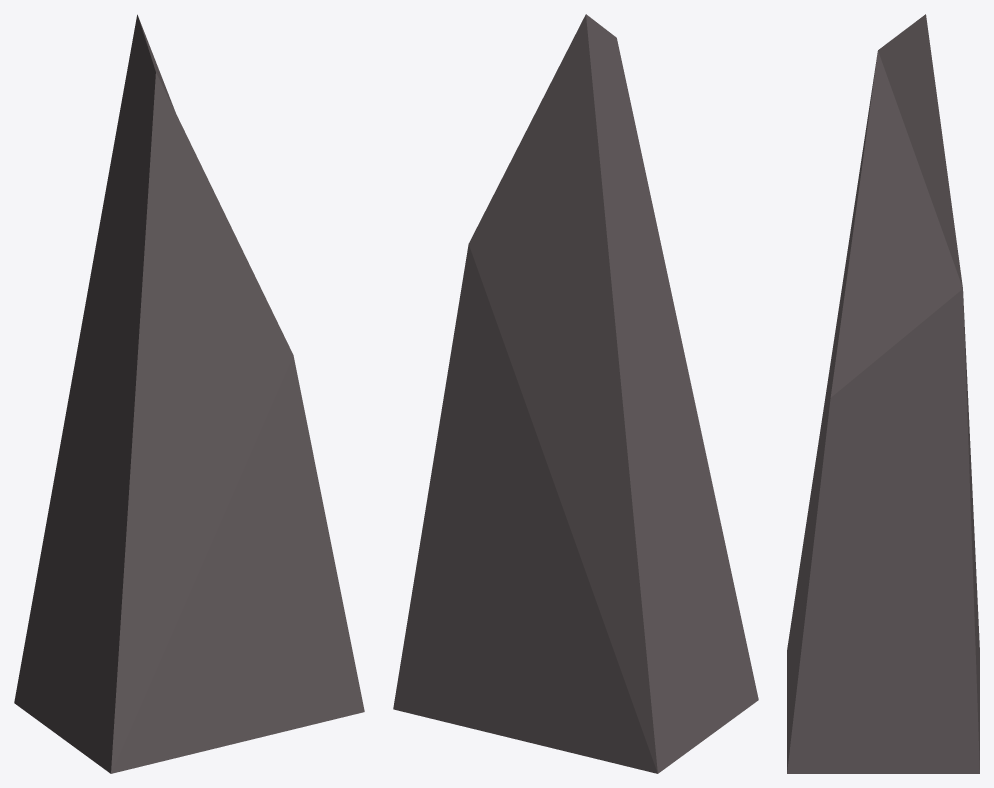
File: Rock_Sharp_s_04.fbx
3 views of the same model, side by side, from view 1: azimuth 30°, elevation 25°; view 2: azimuth 150°, elevation 25°; view 3: azimuth 270°, elevation 25° (orthographic). The views are drawn at different scales.
Parts seen in each view (by area): view 1: Rock_Sharp_s_04; view 2: Rock_Sharp_s_04; view 3: Rock_Sharp_s_04.
Boxes of the visible parts, <box> form: Rock_Sharp_s_04: <box>14,14,364,773</box>; Rock_Sharp_s_04: <box>393,14,758,773</box>; Rock_Sharp_s_04: <box>787,14,979,773</box>.
Bounding box in the file's own units: 27.13 × 70.01 × 17.92.
